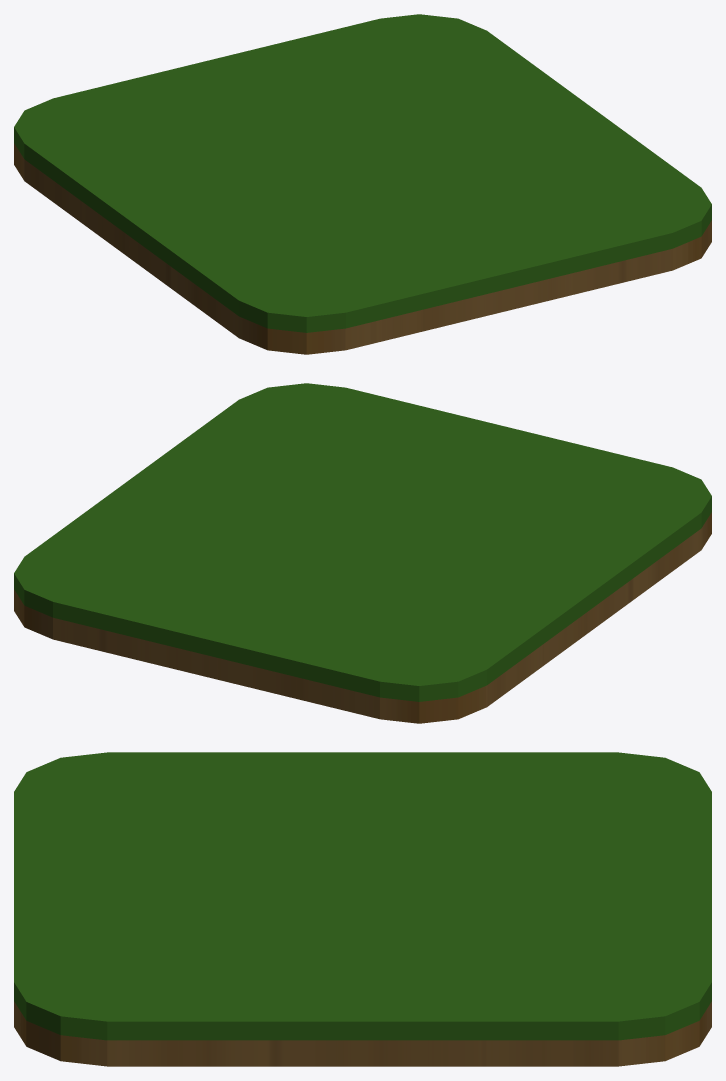
The model's file is FarmGround.fbx.
3 renders of one model, top to bottom at view 1: azimuth 30°, elevation 25°; view 2: azimuth 150°, elevation 25°; view 3: azimuth 270°, elevation 25°, orthographic. The views are drawn at different scales.
Visible parts, largest first — view 1: Plane; view 2: Plane; view 3: Plane.
Boxes of the visible parts, x1,y1,x2,y2 form: Plane: [14, 14, 711, 354]; Plane: [14, 383, 711, 723]; Plane: [14, 752, 711, 1066].
Bounding box in the file's own units: 1277 × 99.43 × 1400.
Materials: 2 (1 with a texture image).
